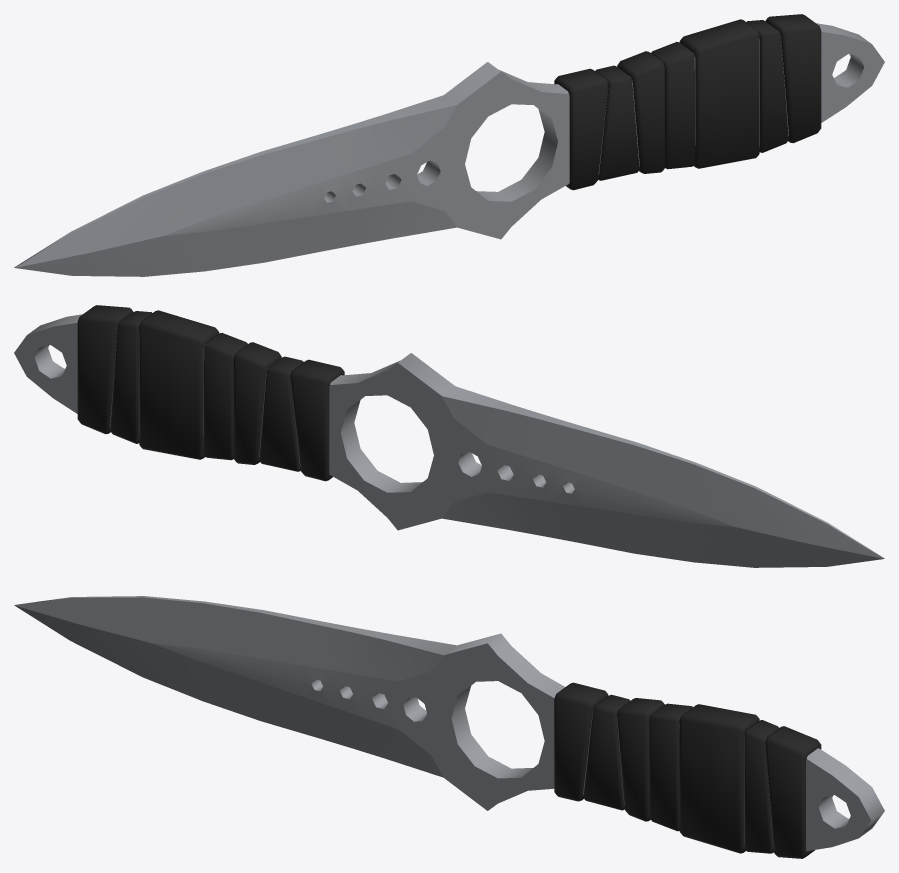
3 renders of one model, top to bottom at view 1: azimuth 30°, elevation 25°; view 2: azimuth 150°, elevation 25°; view 3: azimuth 330°, elevation 25°, orthographic.
Parts seen in each view (by area): view 1: knife; view 2: knife; view 3: knife.
Boxes of the visible parts, bbox=[...] form: knife: bbox=[14, 14, 884, 276]; knife: bbox=[14, 305, 884, 567]; knife: bbox=[14, 596, 884, 858].
Bounding box in the file's own units: 18.55 × 3.44 × 0.6921.
Materials: 1 (1 with a texture image).
